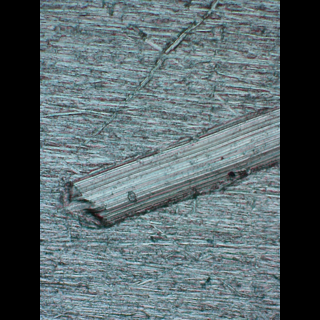d: (52, 102, 280, 234)
